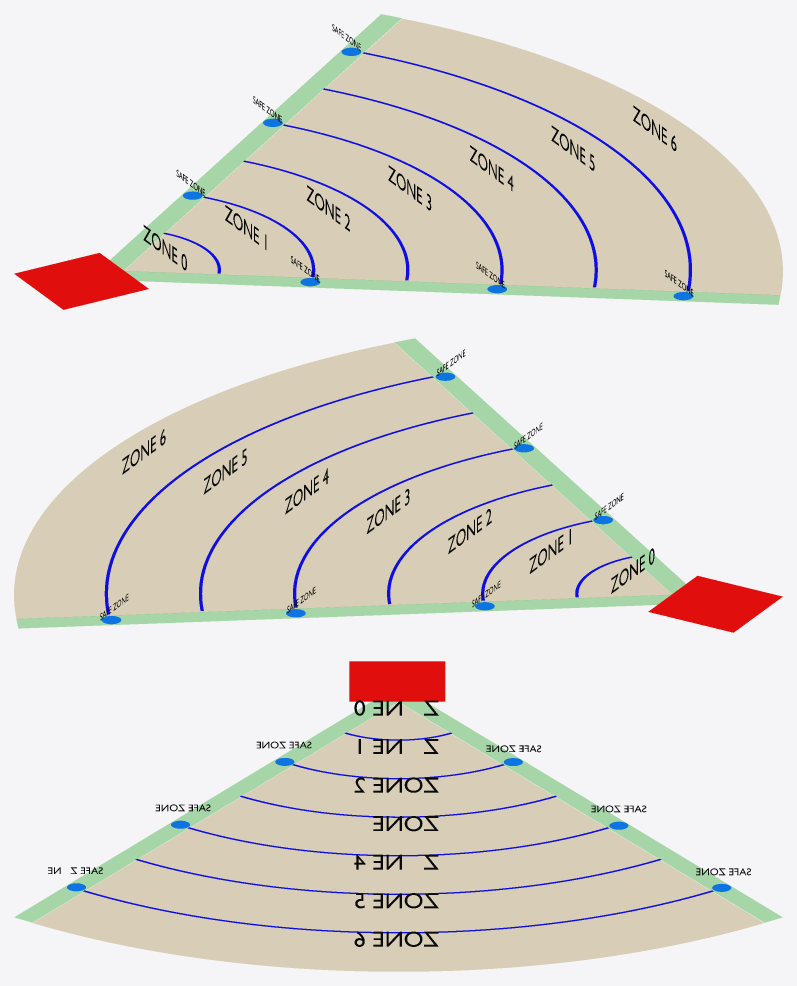
Rendered from biyor.gltf.
3 views of the same model, one above another, from view 1: azimuth 30°, elevation 25°; view 2: azimuth 150°, elevation 25°; view 3: azimuth 270°, elevation 25° (orthographic). The views are drawn at different scales.
Parts seen in each view (by area): view 1: DandiBiyo_Fan, Path_-1, Path_1, Start_Square, Zone_Border_6, Zone_Border_5, Zone_Border_4, Zone_Border_3; view 2: DandiBiyo_Fan, Path_1, Path_-1, Start_Square, Zone_Border_6, Zone_Border_5, Zone_Border_4, Zone_Border_3; view 3: DandiBiyo_Fan, Path_1, Path_-1, Start_Square, Zone_Border_6, Zone_Border_5, Zone_Border_4, Zone_Border_3, Zone_Label_6_fontobj, Zone_Label_2_fontobj, Zone_Label_5_fontobj.
Part boxes in pixels (left/top/right/bottom): DandiBiyo_Fan: left=124, top=18, right=782, bottom=295; Path_-1: left=125, top=271, right=780, bottom=304; Path_1: left=110, top=14, right=401, bottom=269; Start_Square: left=14, top=253, right=148, bottom=309; Zone_Border_6: left=363, top=52, right=691, bottom=290; Zone_Border_5: left=323, top=88, right=597, bottom=287; Zone_Border_4: left=283, top=124, right=503, bottom=283; Zone_Border_3: left=243, top=160, right=409, bottom=280; DandiBiyo_Fan: left=14, top=342, right=671, bottom=618; Path_1: left=16, top=594, right=670, bottom=628; Path_-1: left=394, top=338, right=685, bottom=593; Start_Square: left=648, top=575, right=782, bottom=632; Zone_Border_6: left=104, top=376, right=433, bottom=614; Zone_Border_5: left=199, top=412, right=473, bottom=610; Zone_Border_4: left=293, top=448, right=512, bottom=607; Zone_Border_3: left=387, top=484, right=552, bottom=604; DandiBiyo_Fan: left=33, top=702, right=763, bottom=971; Path_1: left=402, top=701, right=782, bottom=922; Path_-1: left=14, top=701, right=397, bottom=922; Start_Square: left=349, top=661, right=445, bottom=701; Zone_Border_6: left=83, top=890, right=713, bottom=933; Zone_Border_5: left=135, top=859, right=661, bottom=894; Zone_Border_4: left=188, top=827, right=608, bottom=856; Zone_Border_3: left=240, top=795, right=556, bottom=817; Zone_Label_6_fontobj: left=354, top=931, right=438, bottom=946; Zone_Label_2_fontobj: left=354, top=777, right=438, bottom=792; Zone_Label_5_fontobj: left=355, top=893, right=438, bottom=908.
Bounding box in the file's own units: 11.49 × 0.3626 × 12.05.
